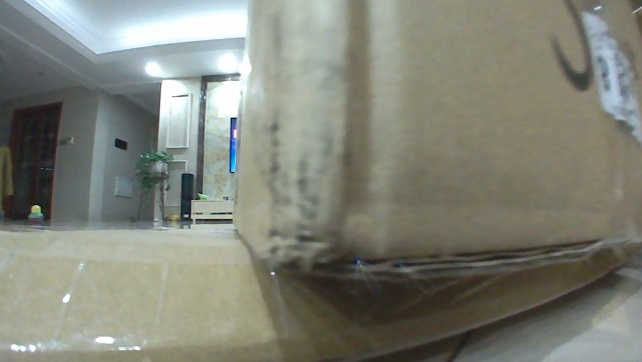TV_stand1: (187, 199, 233, 224)
